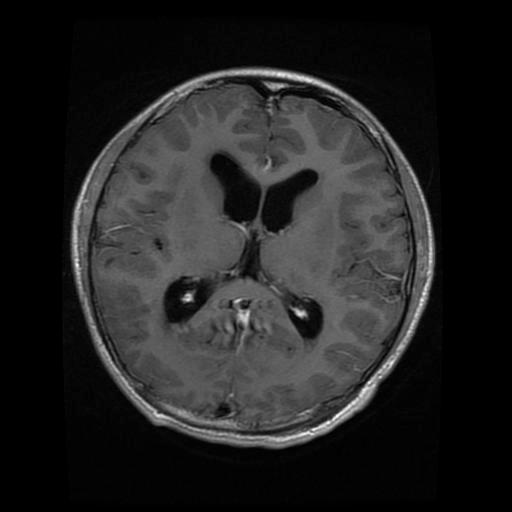Tumour-Glioma: (217, 288, 287, 350)
